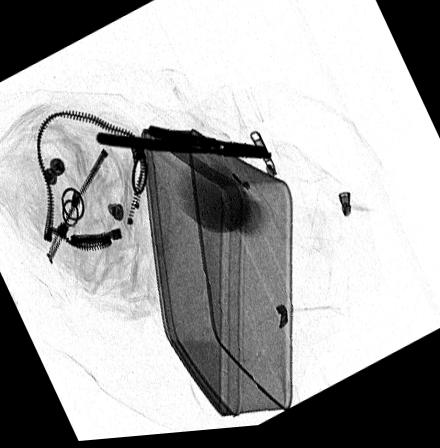Pliers: (95, 125, 273, 162)
